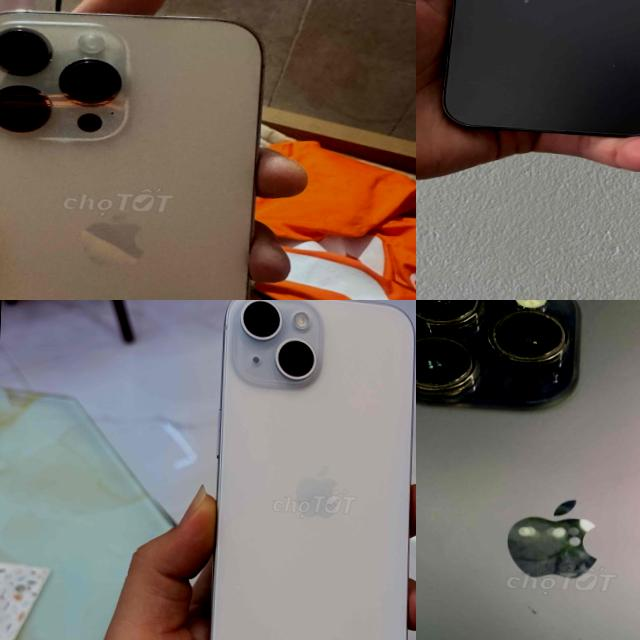gen_12_13: (435, 0, 640, 138)
gen_14: (0, 0, 268, 300), (416, 300, 640, 640)
gen_15: (184, 300, 416, 640)
scratch: (478, 303, 583, 369), (416, 328, 485, 410), (416, 300, 487, 335)
